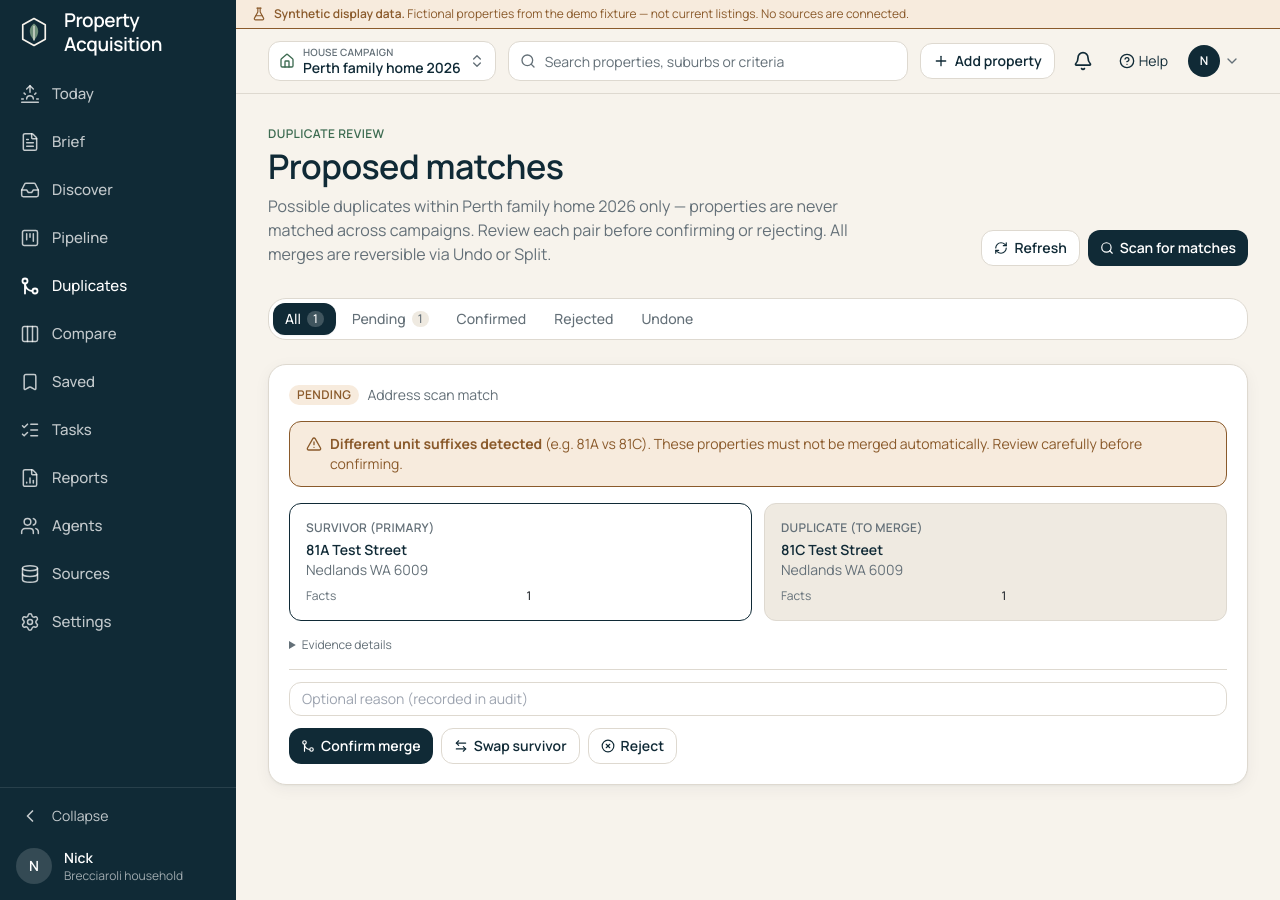
Test: M4.2 CSV and duplicate-review UI › presents a proposed match and sends a deliberate reject action
Check: the list item with test id "dup-proposal-proposal-1" is shown, box x1=268 y1=364 x2=1248 y2=785
Check: the element with test id "dup-unit-suffix-warning" is shown, box x1=289 y1=421 x2=1227 y2=487
Step 1. Click the button with test id "dup-action-reject" → x=632, y=746, box x1=588 y1=728 x2=677 y2=764
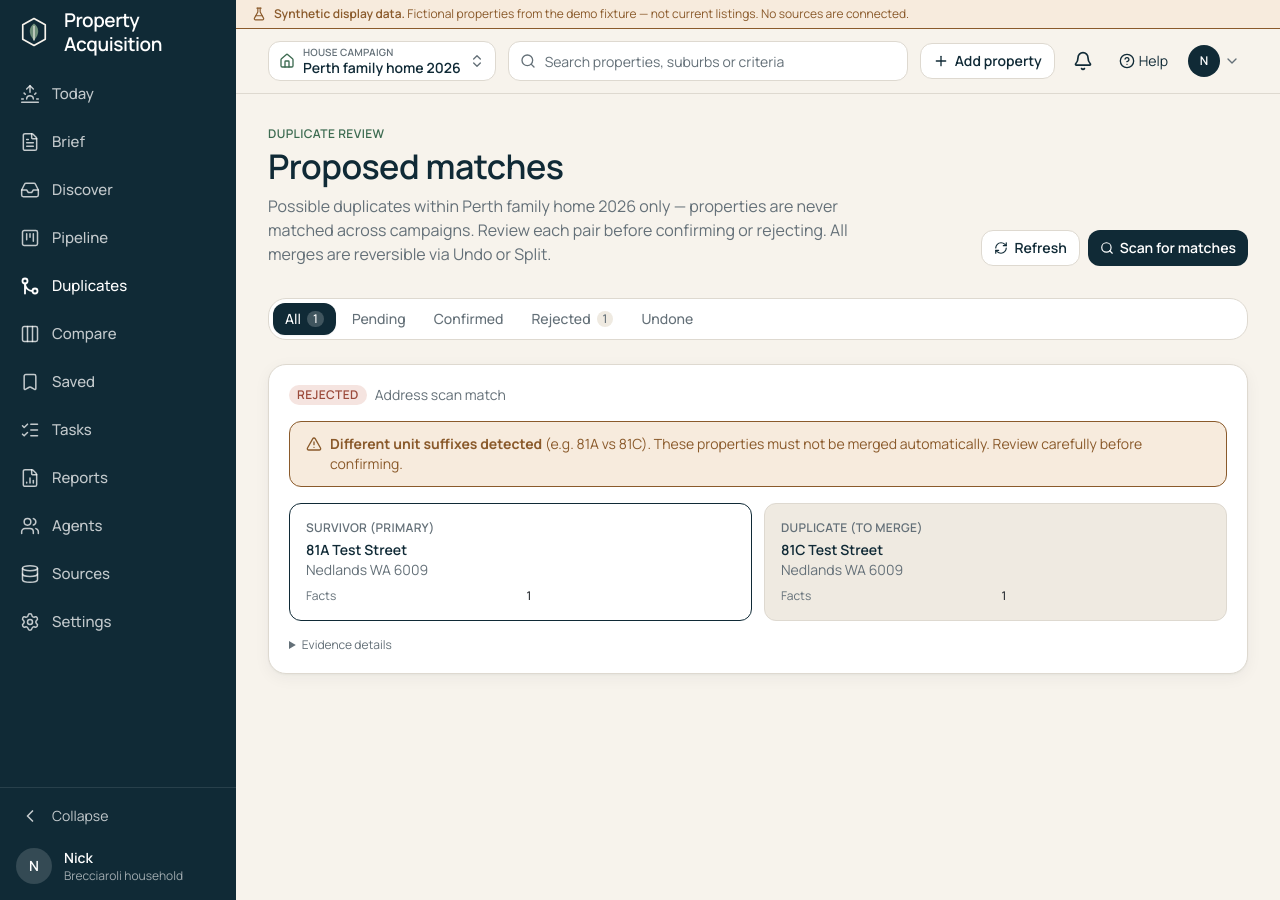
Check: the text "rejected" is shown, box x1=289 y1=385 x2=367 y2=405
